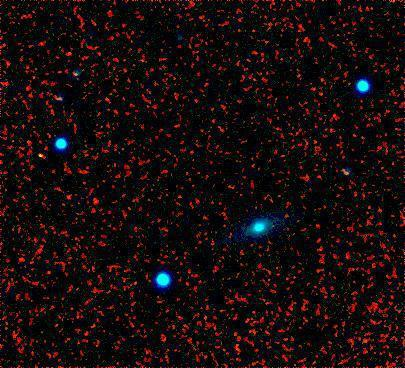star: (30, 142, 60, 172)
